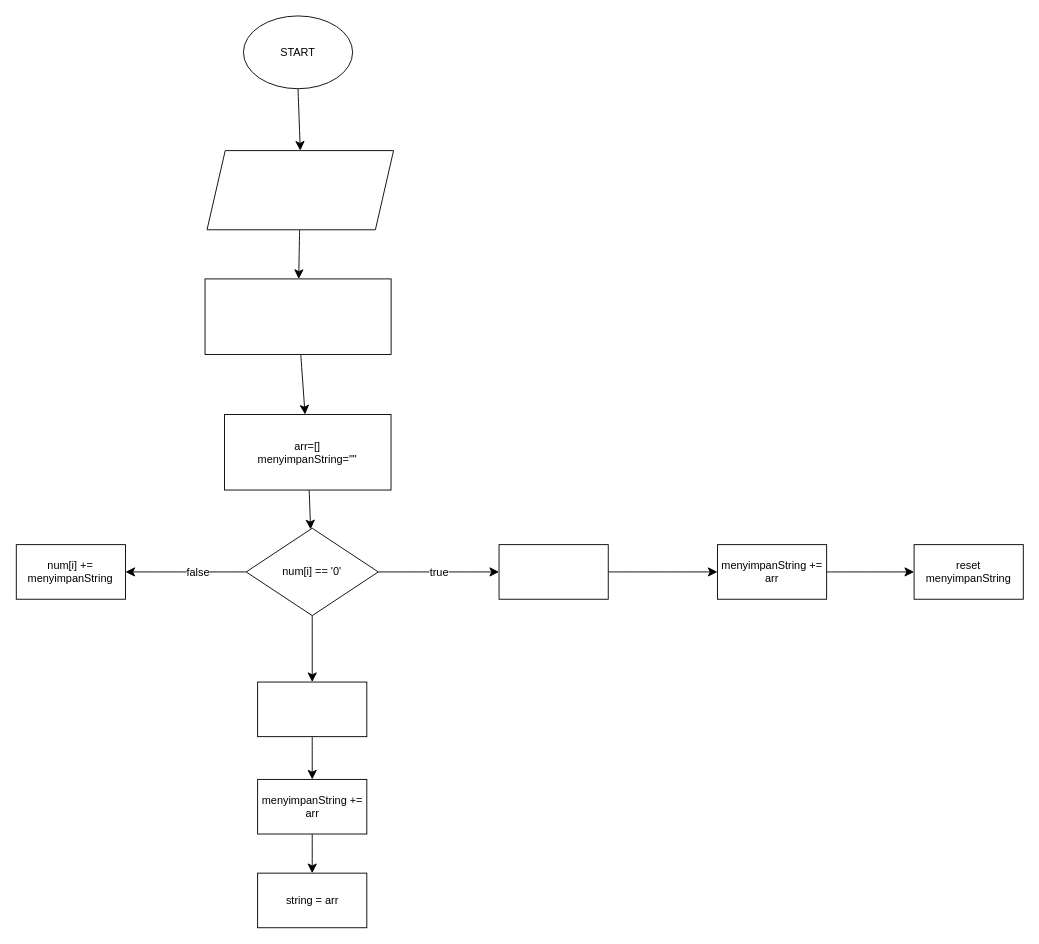
Some shapes in this 1039 by 944 pixel diagram are drawn without their labels. The shapes that lost their labels are listed below. From the top down, each one's centre as x and y in pixels, then its label:
pixel 300 190: INPUT divideAndSort(num)
pixel 297 316: num = string
pixel 553 571: menyimpanString !kosong
pixel 312 709: menyimpanString === ''
